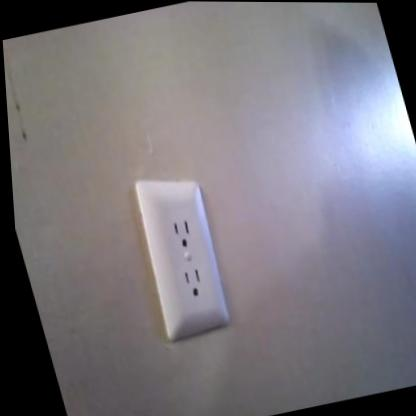OUTLET: (124, 166, 237, 339)
